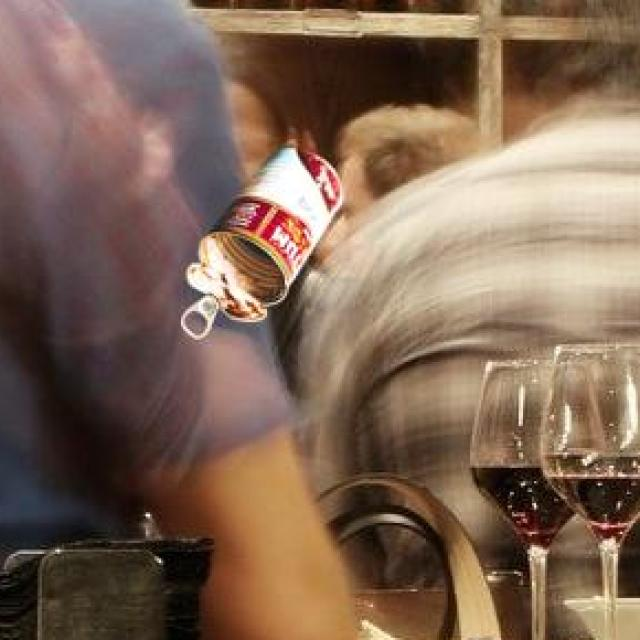logam: (189, 145, 345, 330)
